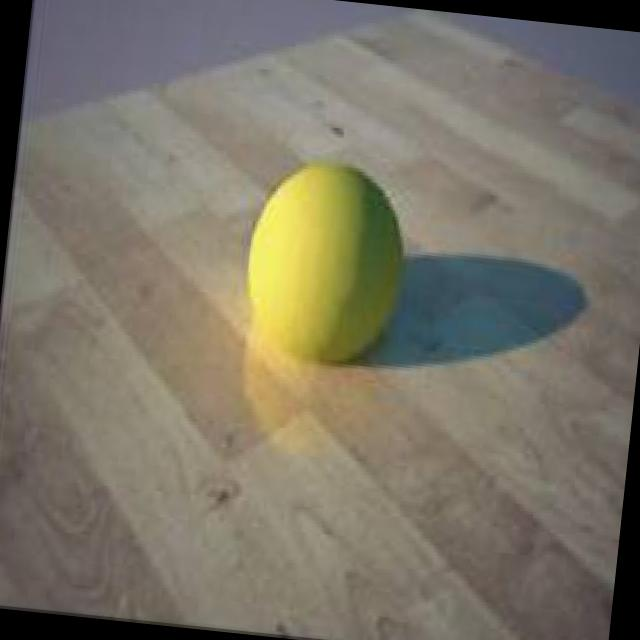Tennis Ball: (244, 161, 408, 367)
